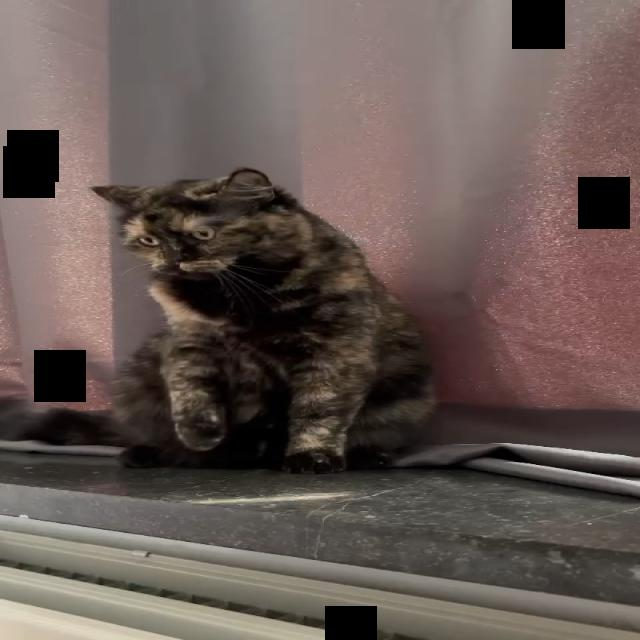authorized: (87, 166, 437, 475)
